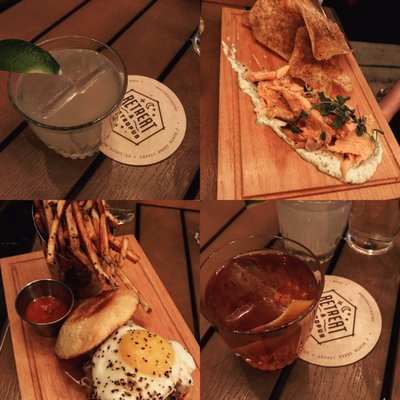pizza: (201, 235, 325, 373), (5, 35, 132, 161), (276, 201, 352, 272), (345, 199, 400, 256)
sushi: (15, 279, 76, 337)
